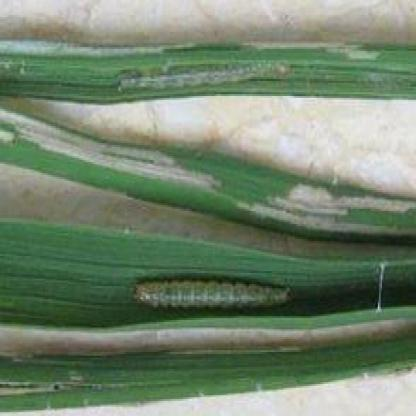leaf-folder: (127, 260, 304, 326), (103, 52, 291, 99)
